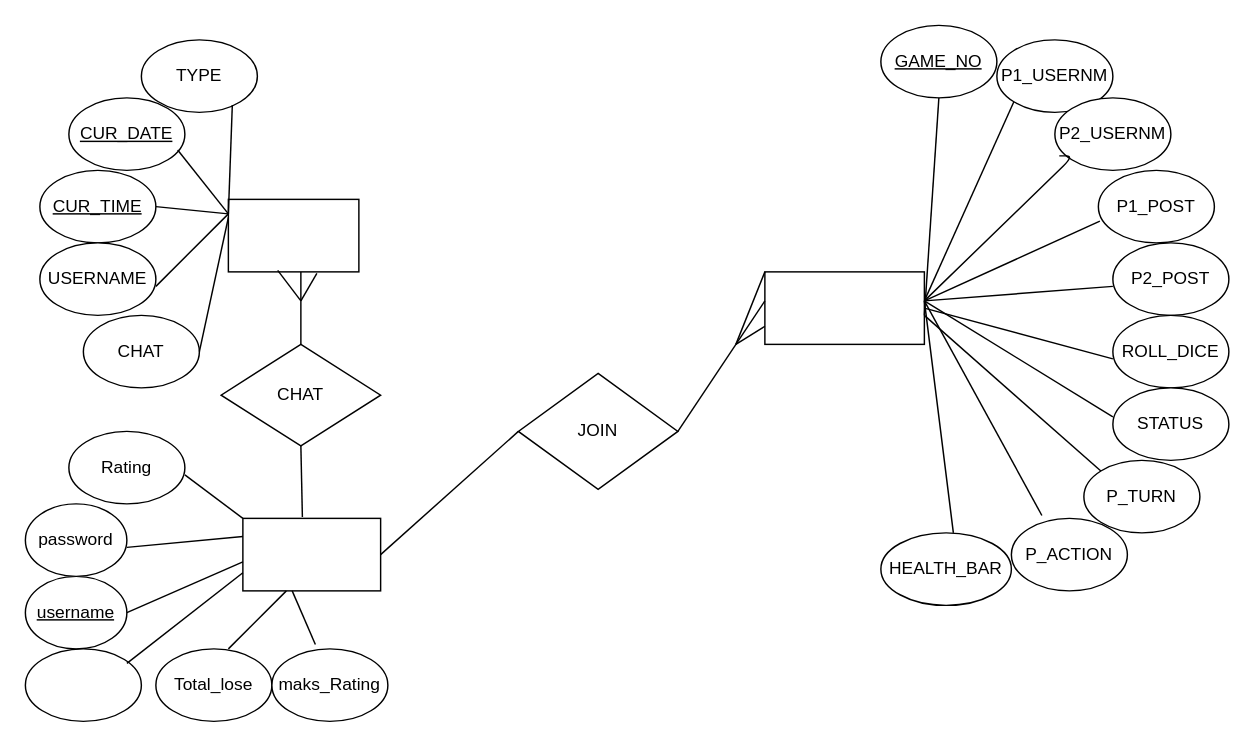
Image size: 1254x747. Some labels were removed from this diagram. Each missing label, with the centre of its shape:
"Chat_Room" belongs at pixel 293 235.
"Game_Room" belongs at pixel 843 307.
"Player" belongs at pixel 311 554.
"Total_win" belongs at pixel 82 684.
